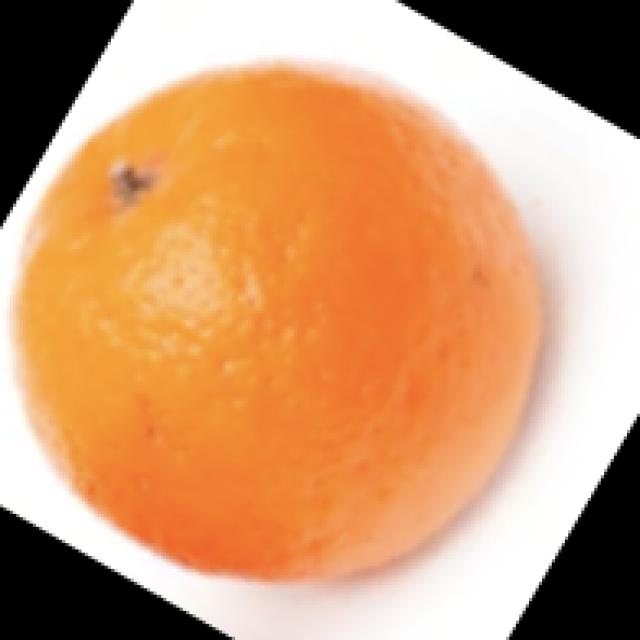orange: (6, 28, 557, 596)
